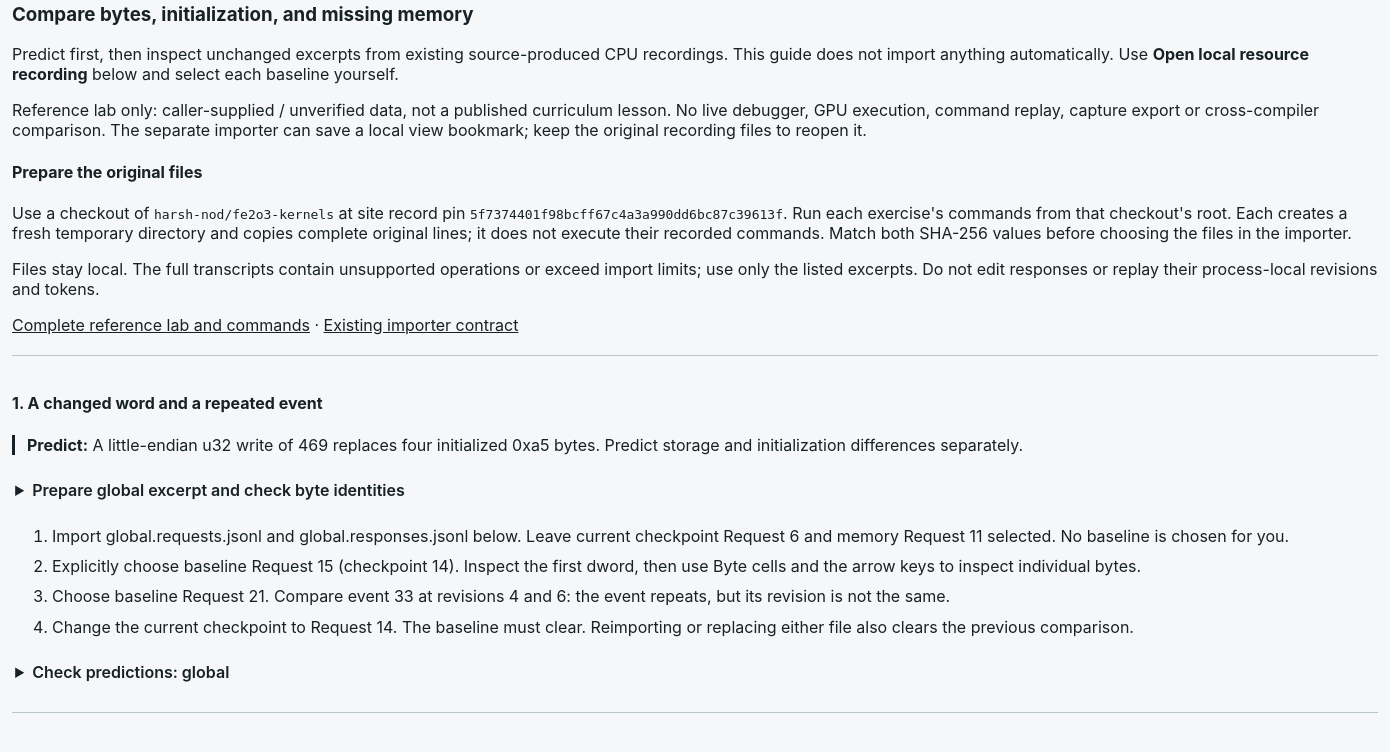
exposes byte-pinned preparation and independent answers through native details
What coordinates should you click on to do the following:
click the heading "Prepare global excerpt and check byte identities"
I would click on:
 (218, 490)
Its box is [32,480,405,500].
(page scrolled)
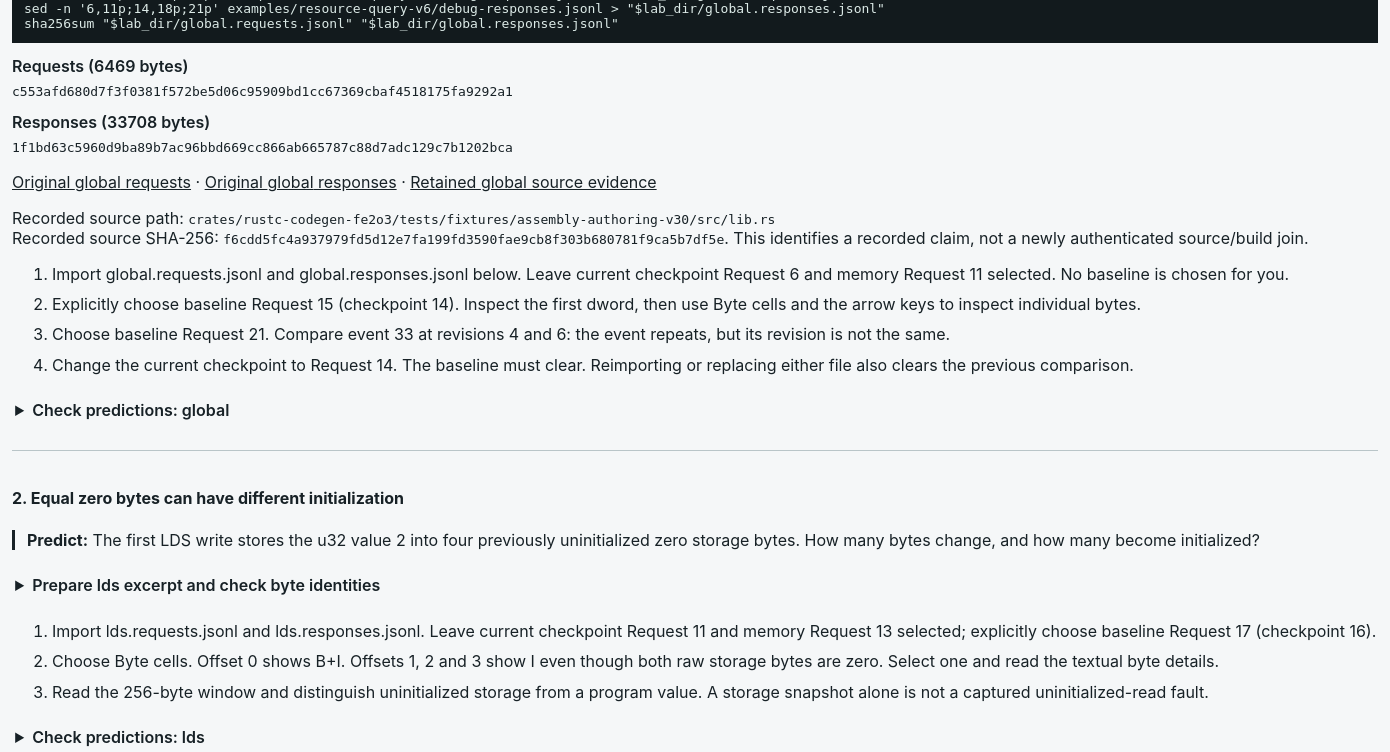
What coordinates should you click on to do the following:
click the heading "Check predictions: global"
I would click on:
 (131, 410)
Its box is [32,400,229,420].
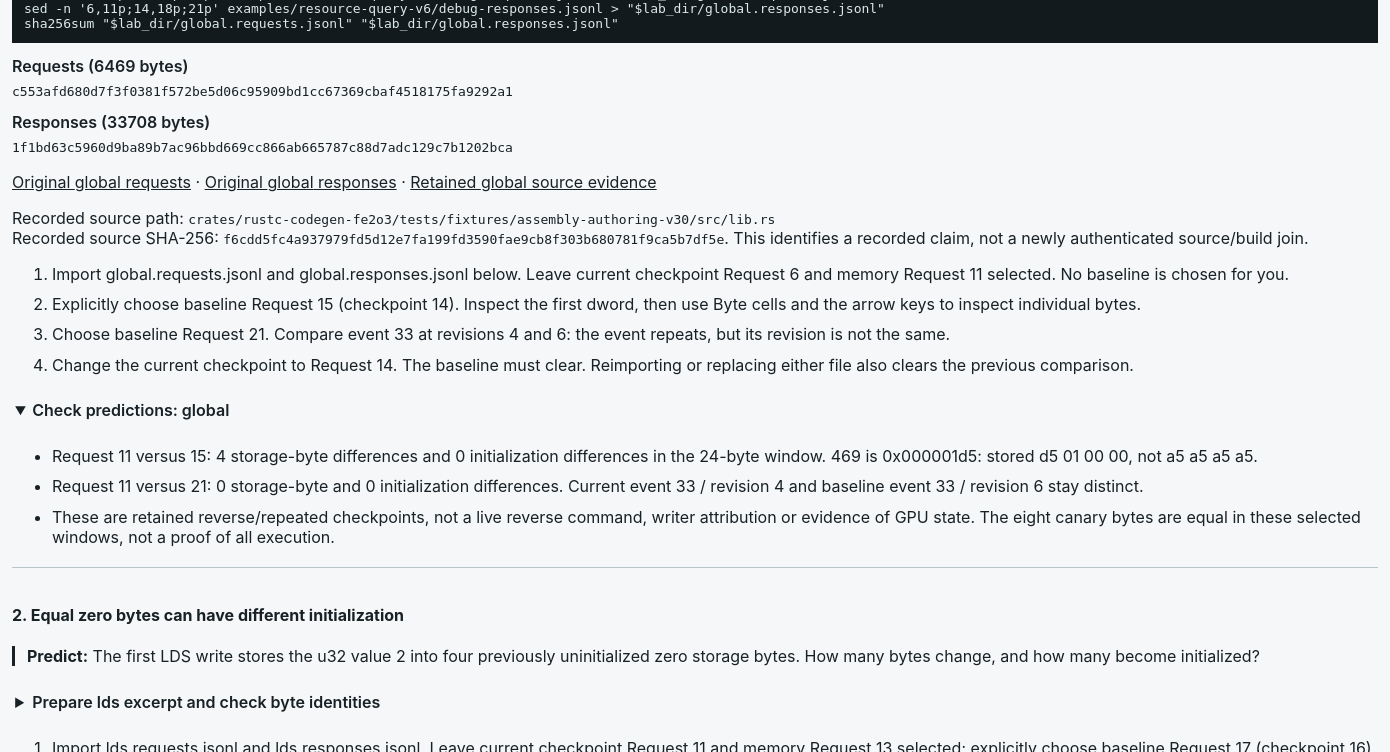
What coordinates should you click on to do the following:
click the heading "Prepare lds excerpt and check byte identities"
I would click on:
 (206, 702)
Its box is [32,692,380,712].
(page scrolled)
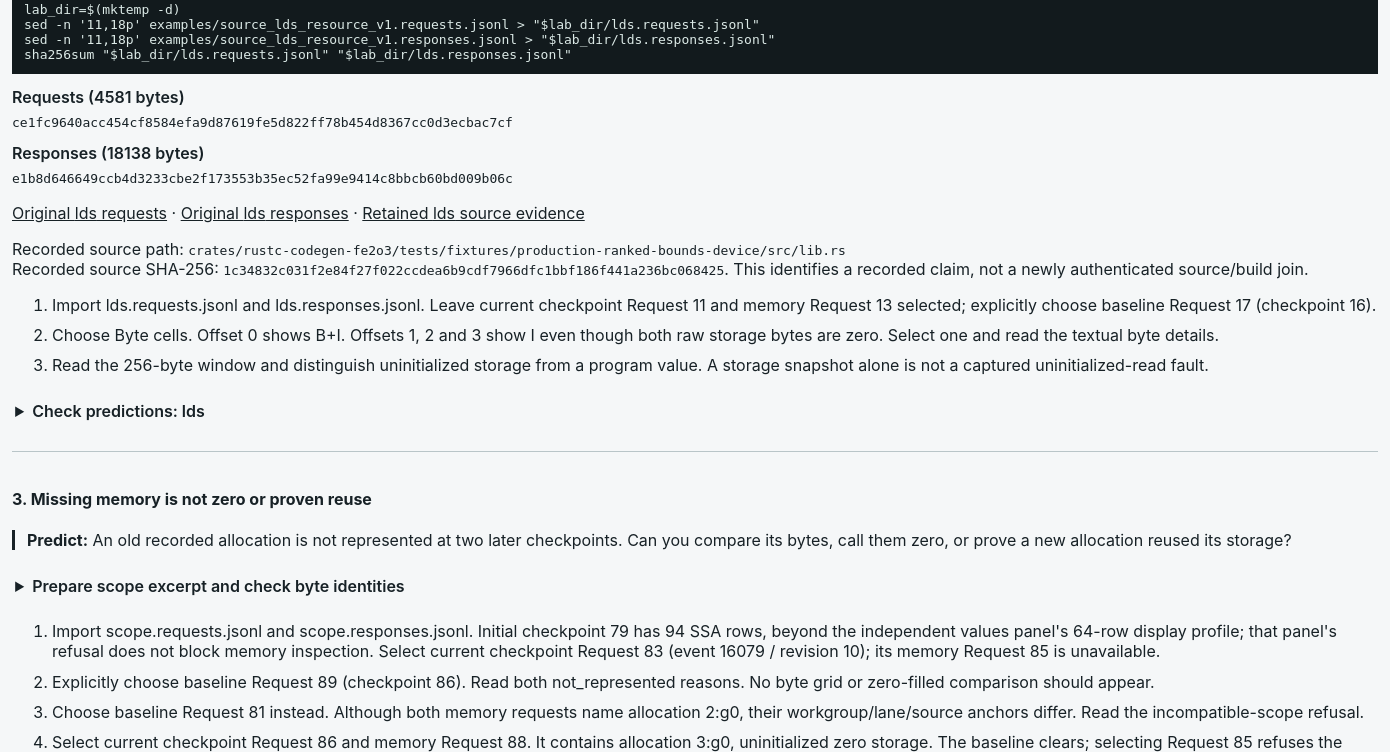
What coordinates should you click on to do the following:
click the heading "Check predictions: lds"
I would click on:
 (118, 411)
Its box is [32,401,205,421].
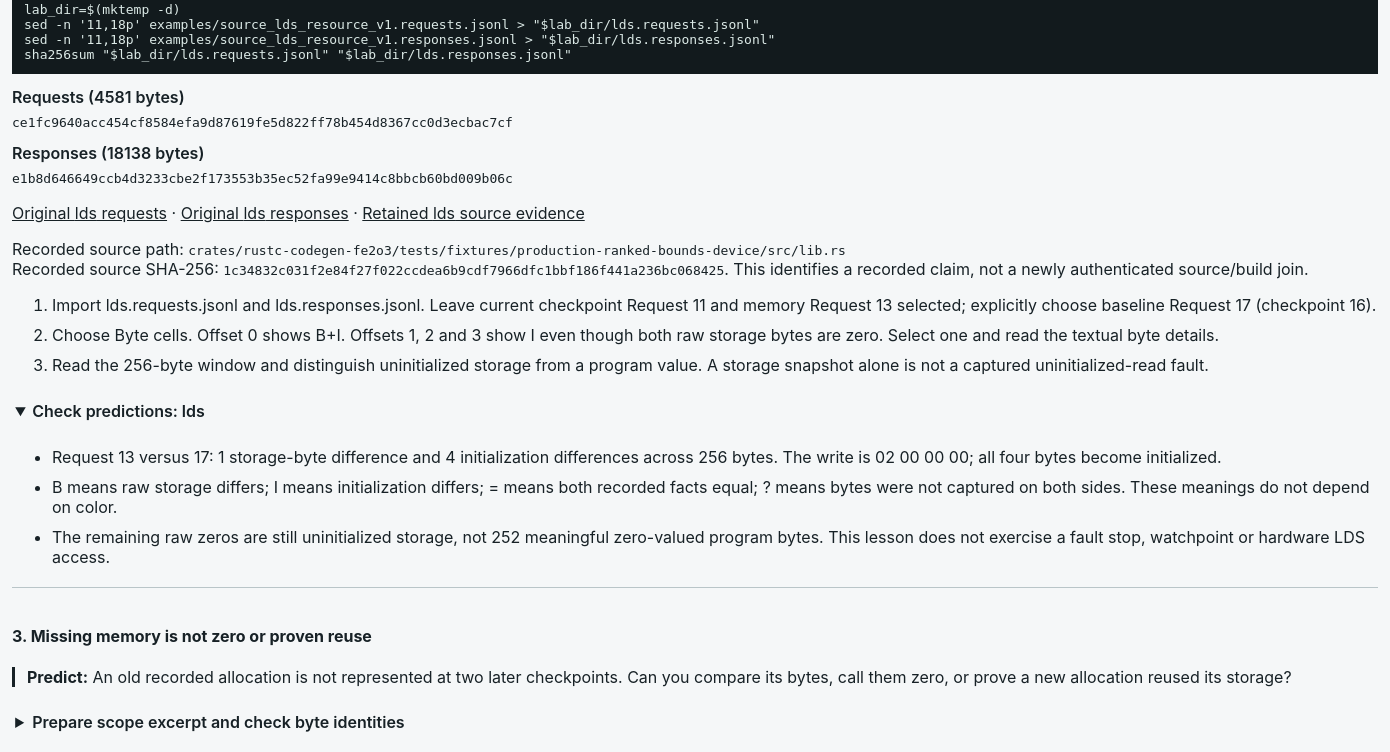
Now the list named "lds expected observations" is shown, box [12,446,1378,567]
What coordinates should you click on to do the following:
click the heading "Prepare scope excerpt and check byte identities"
I would click on:
 (218, 722)
Its box is [32,712,405,732].
(page scrolled)
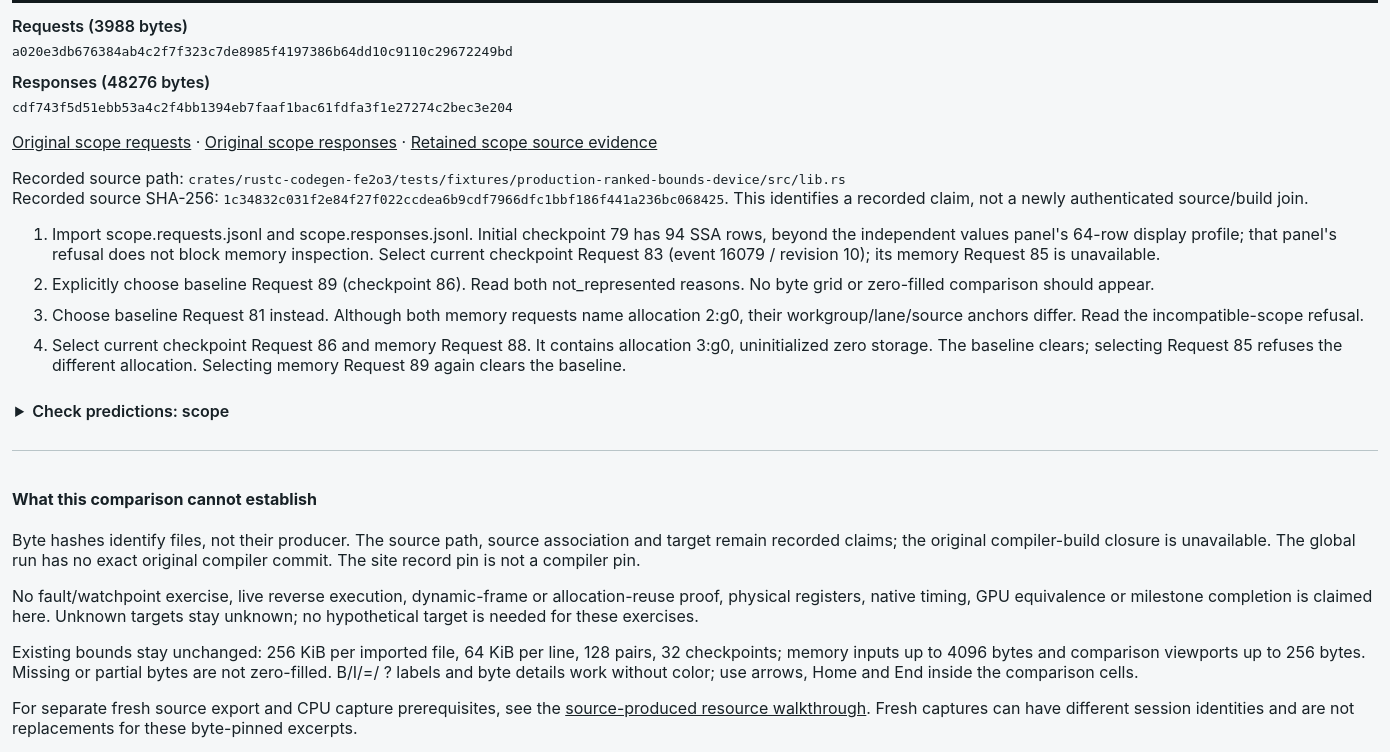
What coordinates should you click on to do the following:
click the heading "Check predictions: scope"
I would click on:
 (131, 411)
Its box is [32,401,229,421].
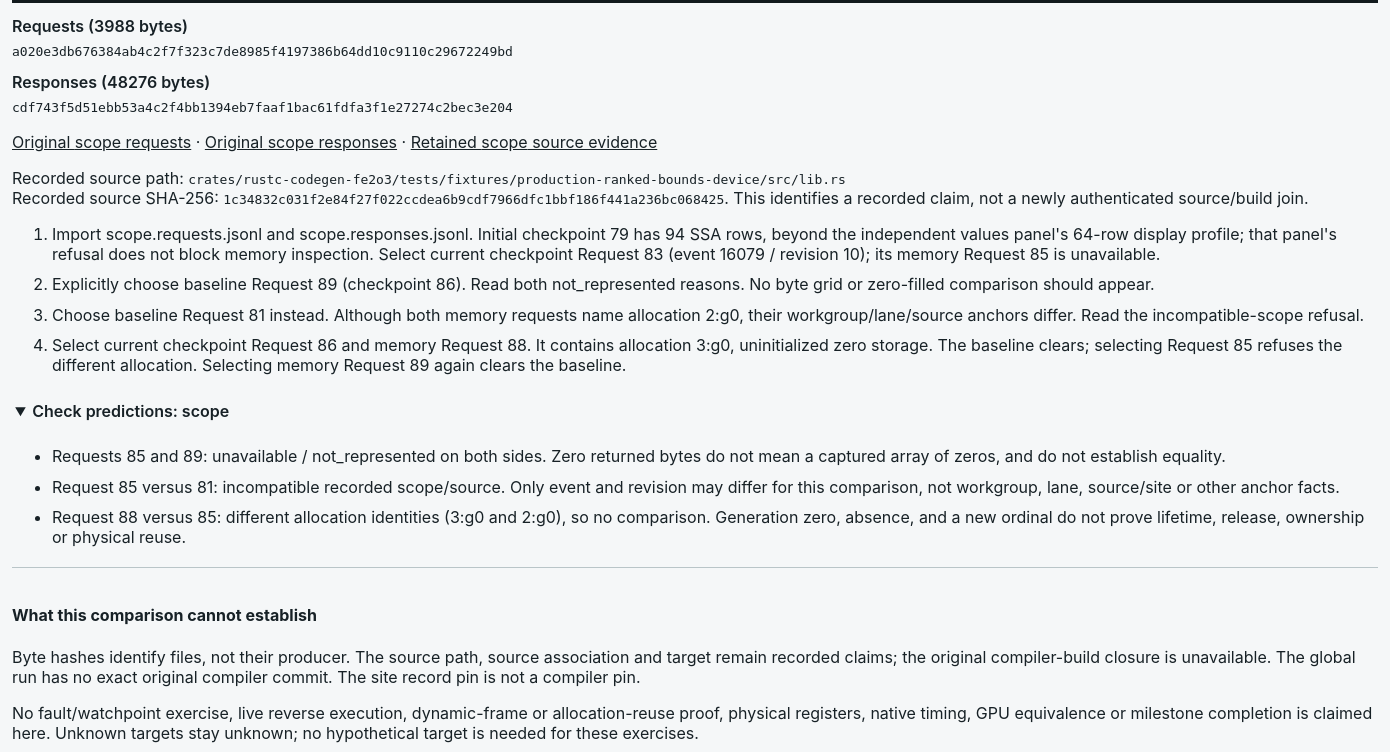
Now the list named "scope expected observations" is shown, box [12,446,1378,547]
Now the list named "scope expected observations" shows "do not establish equality", box [52,446,1226,466]
